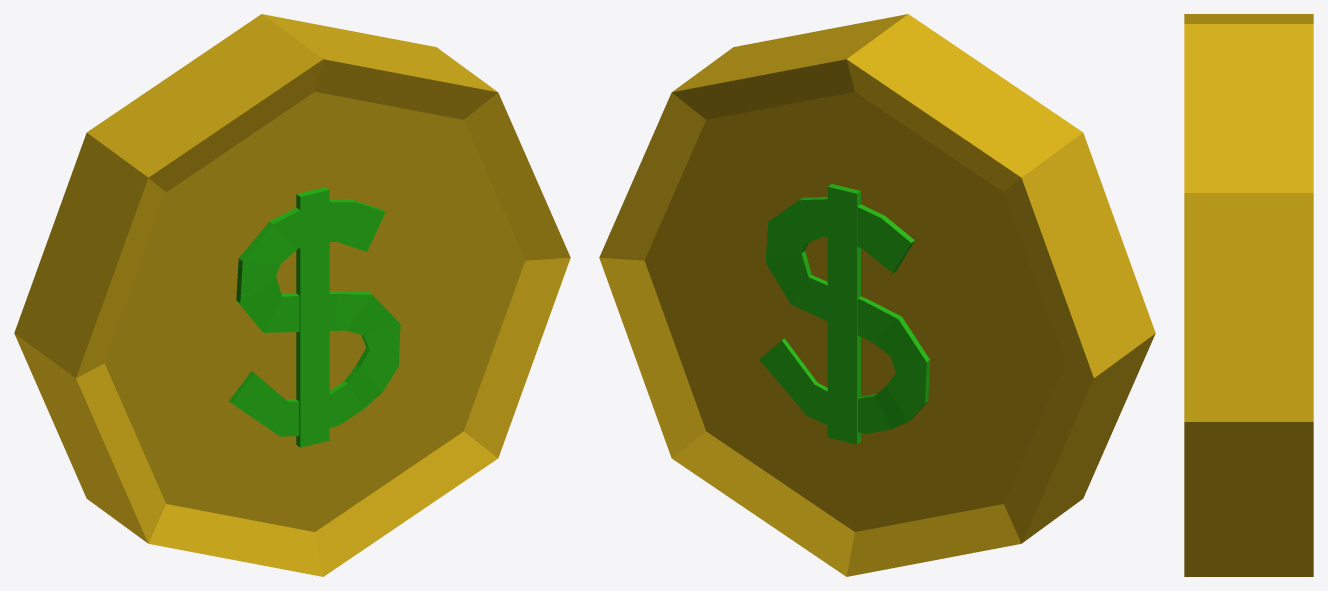
Rendered from coin.fbx.
The picture shows the model from 3 angles, left to right: view 1: azimuth 30°, elevation 25°; view 2: azimuth 150°, elevation 25°; view 3: azimuth 270°, elevation 25°; orthographic projection. The views are drawn at different scales.
Visible parts, largest first — view 1: Cylinder; view 2: Cylinder; view 3: Cylinder.
Boxes of the visible parts, bbox=[...] form: Cylinder: bbox=[14, 14, 570, 576]; Cylinder: bbox=[599, 14, 1155, 576]; Cylinder: bbox=[1184, 14, 1313, 576].
Bounding box in the file's own units: 47.1 × 47.1 × 10.19.
